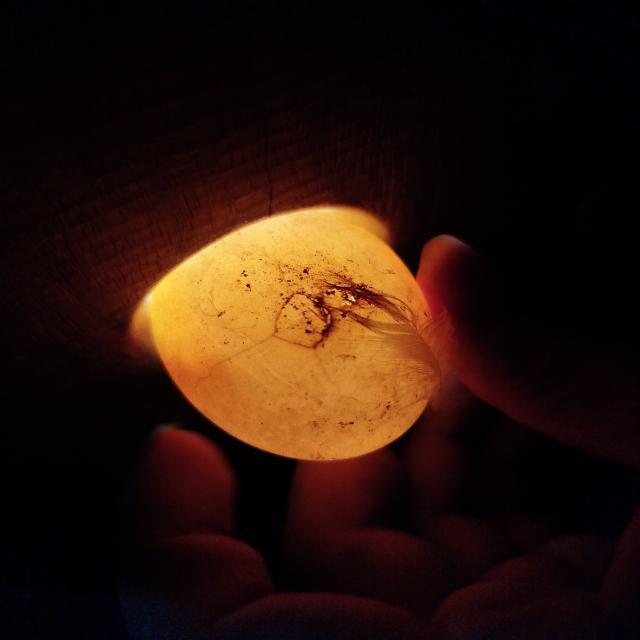Rachadura: (276, 295, 329, 348)
